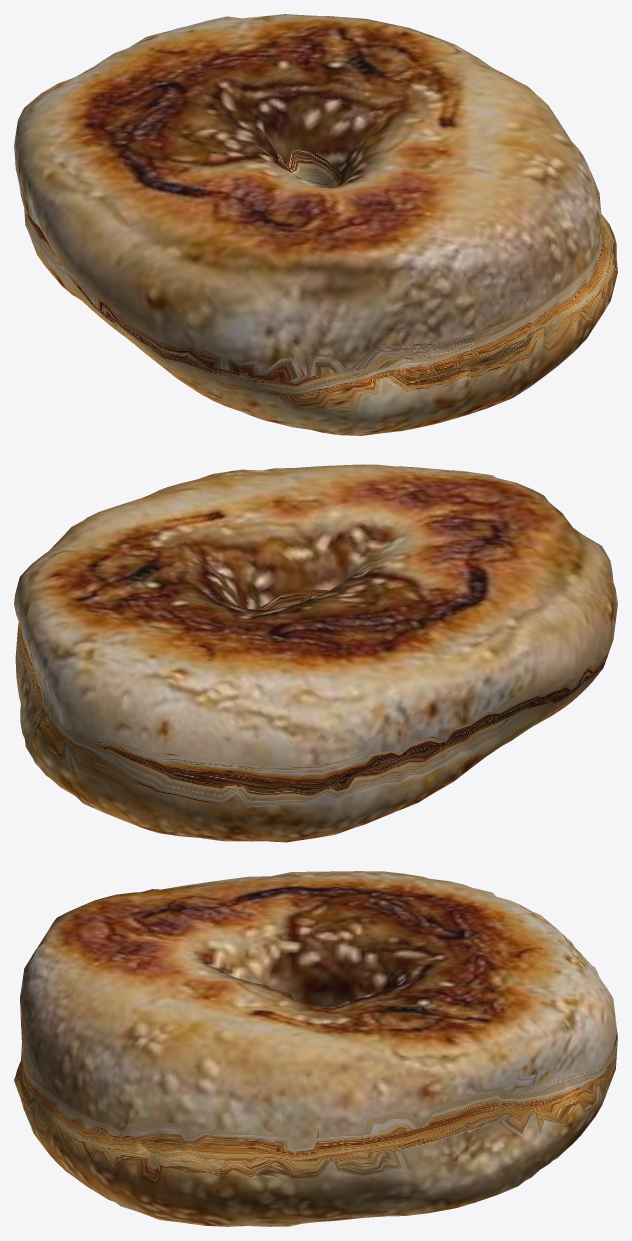
Rendered from food_prepared_bagel_b01.glb.
3 renders of one model, top to bottom at view 1: azimuth 30°, elevation 25°; view 2: azimuth 150°, elevation 25°; view 3: azimuth 270°, elevation 25°, orthographic. The views are drawn at different scales.
Visible parts, largest first — view 1: prop; view 2: prop; view 3: prop.
Part boxes in pixels (<box>): prop: <box>14,14,617,435</box>; prop: <box>14,464,617,842</box>; prop: <box>14,871,617,1226</box>.
Bounding box in the file's own units: 0.5145 × 0.2073 × 0.5747.
Materials: 1 (1 with a texture image).
